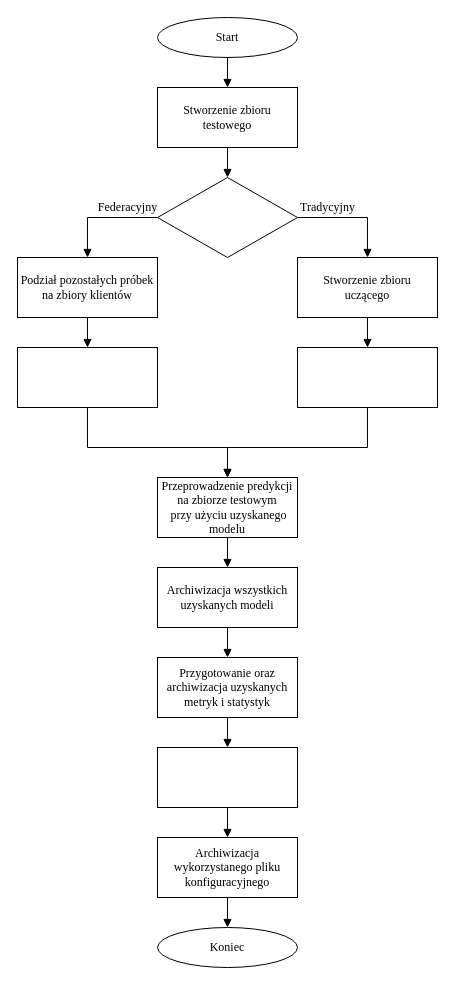
Image size: 455x985. Some labels were removed from this diagram. Each missing label, with the centre of its shape:
"Przeprowadzenie procesu uczenia federacyjnego" goes at point (87, 377).
"Przeprowadzenie procesu uczenia tradycyjnego" goes at point (367, 377).
"Przygotowanie oraz archiwizacja wykresów i macierzy pomyłek" goes at point (227, 777).
"Rodzaj uczenia?" goes at point (227, 217).
